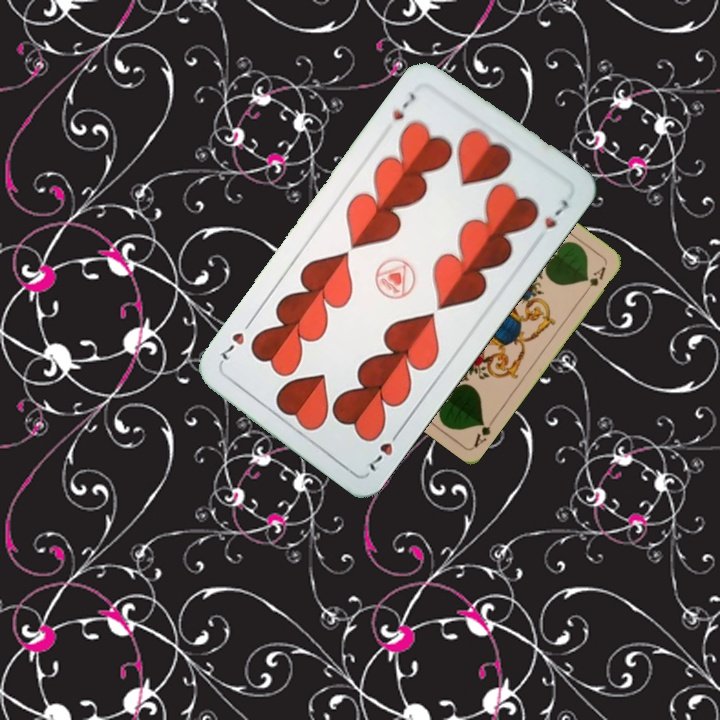GA: (470, 413, 498, 450)
H7: (363, 424, 405, 475), (388, 86, 418, 123)
